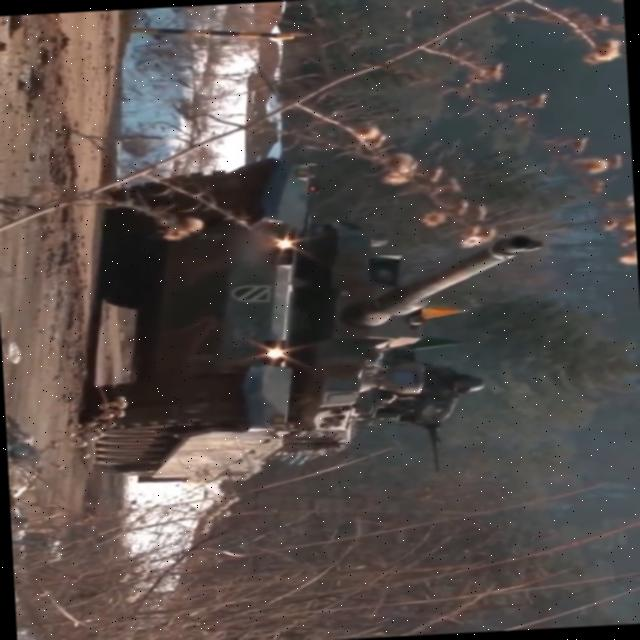korea tank: (71, 145, 555, 488)
